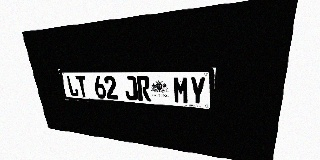2: (104, 76, 118, 99)
6: (93, 76, 107, 99)
J: (123, 76, 138, 101)
L: (66, 75, 79, 97)
M: (173, 76, 189, 104)
R: (136, 76, 151, 102)
T: (75, 75, 89, 97)
Y: (189, 76, 206, 105)
